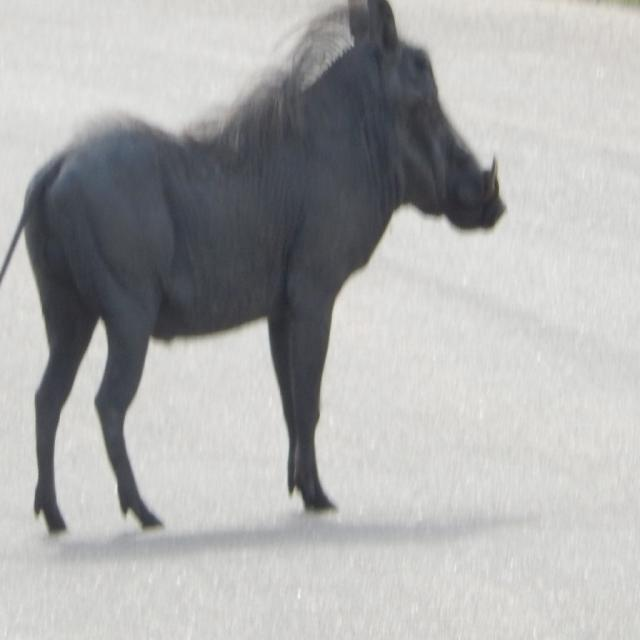Pig: (0, 0, 508, 534)
